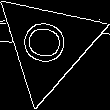O_E: (20, 18, 77, 71)
